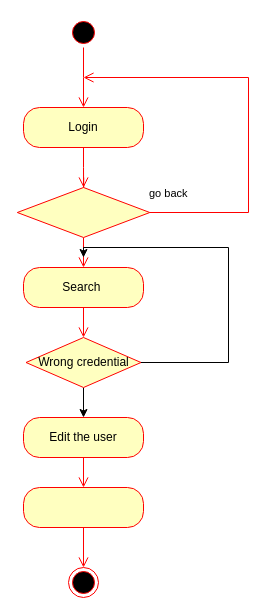
Some shapes in this 277 by 615 pixel diagram are drawn without their labels. The centre of each missing label's shape, as x and y in pixels:
"Access is denied" goes at [83,212].
"User updated" goes at [83,507].
